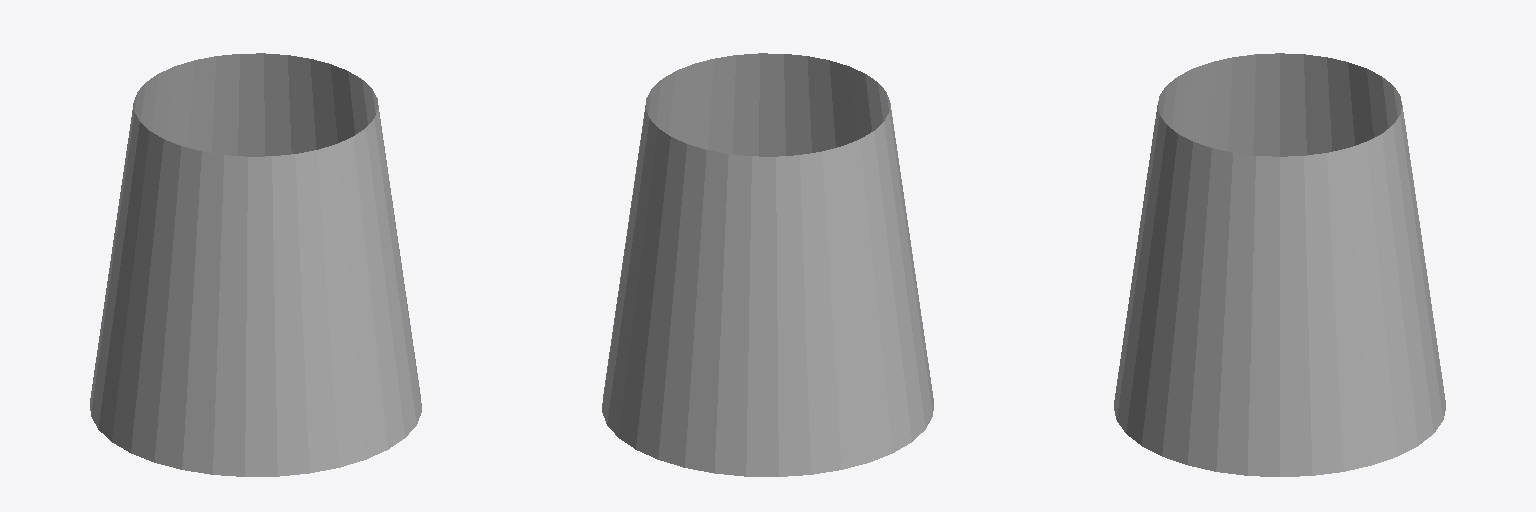
The model's file is maya_cylinder.obj.
3 renders of one model, left to right at view 1: azimuth 30°, elevation 25°; view 2: azimuth 150°, elevation 25°; view 3: azimuth 270°, elevation 25°, orthographic.
Parts seen in each view (by area): view 1: Mesh; view 2: Mesh; view 3: Mesh.
Boxes of the visible parts, box(x1,y1,x2,y2) form: Mesh: box(90, 53, 421, 476); Mesh: box(602, 53, 933, 476); Mesh: box(1114, 53, 1445, 476).
Bounding box in the file's own units: 2 × 2 × 2.